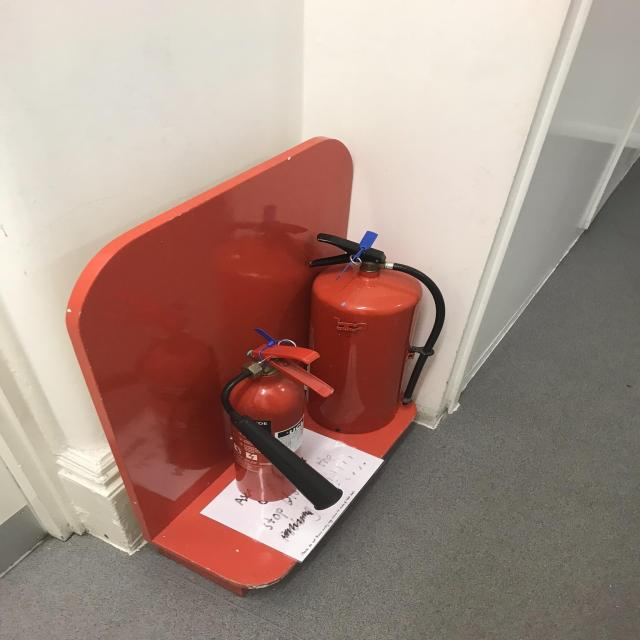fire_extinguisher: (290, 228, 452, 437), (217, 339, 346, 521)
